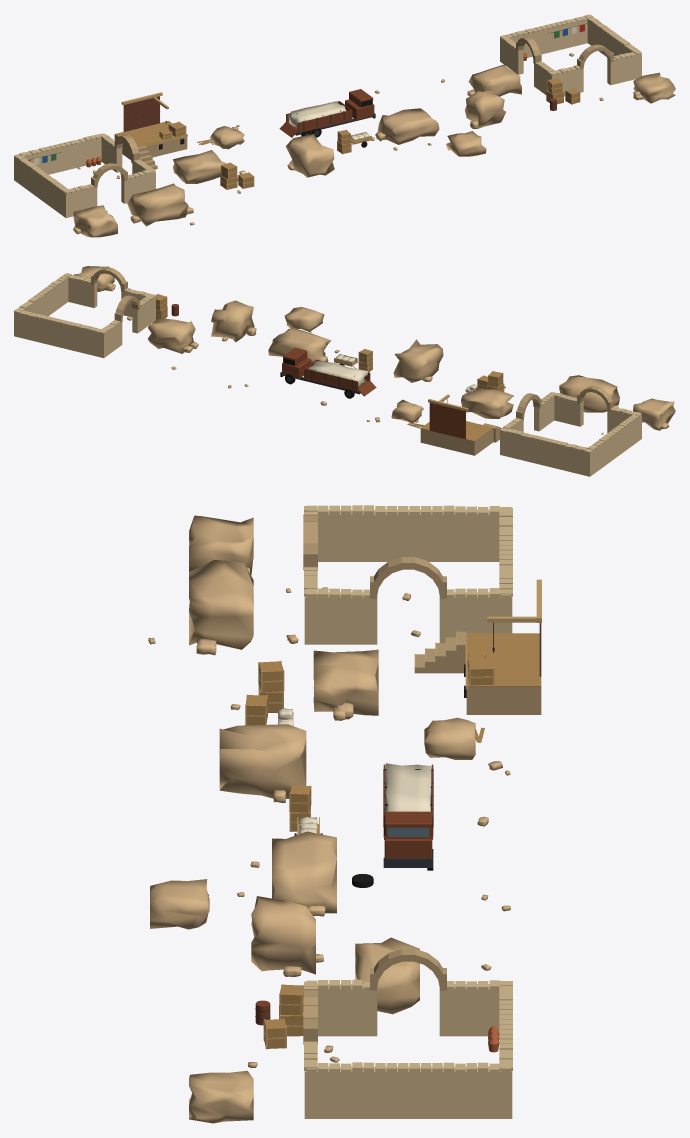
File: db-north.glb
3 views of the same model, one above another, from view 1: azimuth 30°, elevation 25°; view 2: azimuth 150°, elevation 25°; view 3: azimuth 270°, elevation 25° (orthographic). The views are drawn at different scales.
Visible parts, largest first — view 1: db-north; view 2: db-north; view 3: db-north.
Part boxes in pixels (<box>): db-north: <box>14,14,675,237</box>; db-north: <box>14,266,675,476</box>; db-north: <box>148,505,541,1123</box>.
Size of the model in its own units: 65.46 by 4.75 by 18.95.
